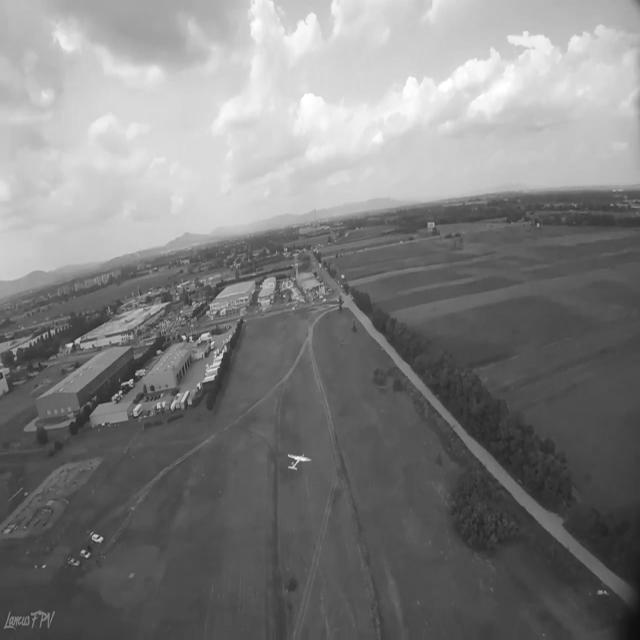iha: (279, 449, 310, 477)
